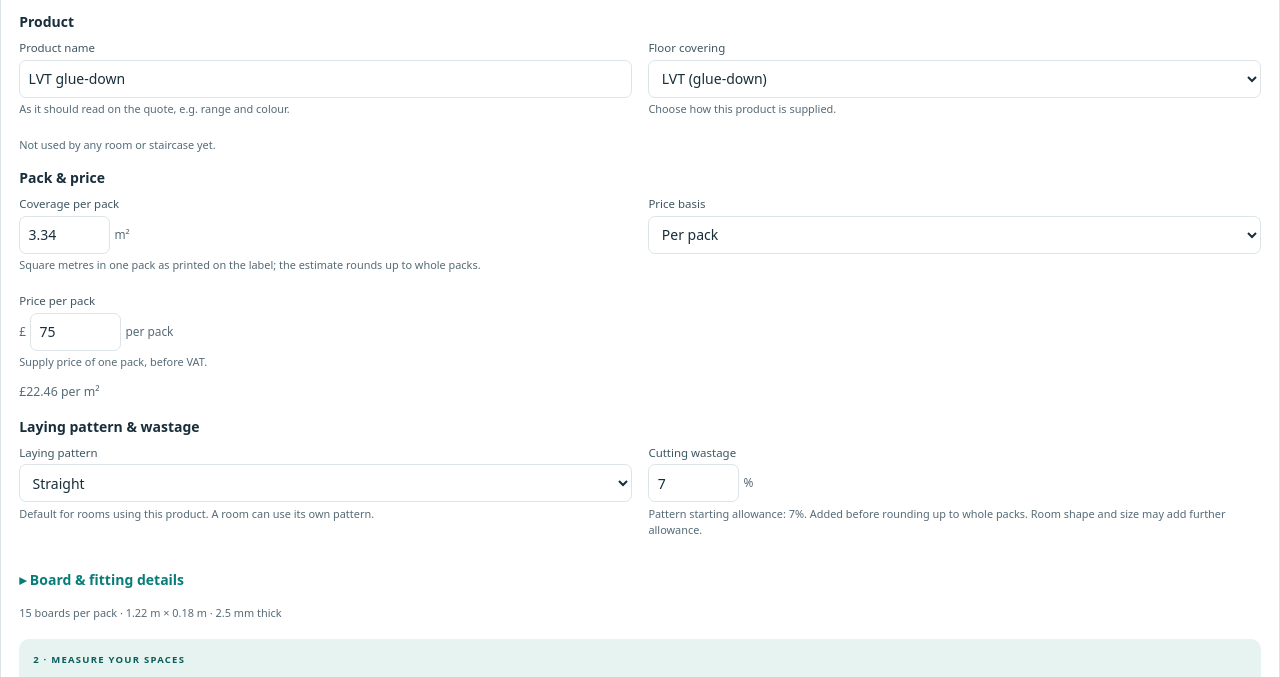
Test: MaterialsPanel › pack price edits keep price per m² in step
This screenshot has width=1280, height=677.
(page scrolled)
Replace the text in the number field labelled "Price per pack" with "100" at (76, 332), box [30, 313, 121, 351]
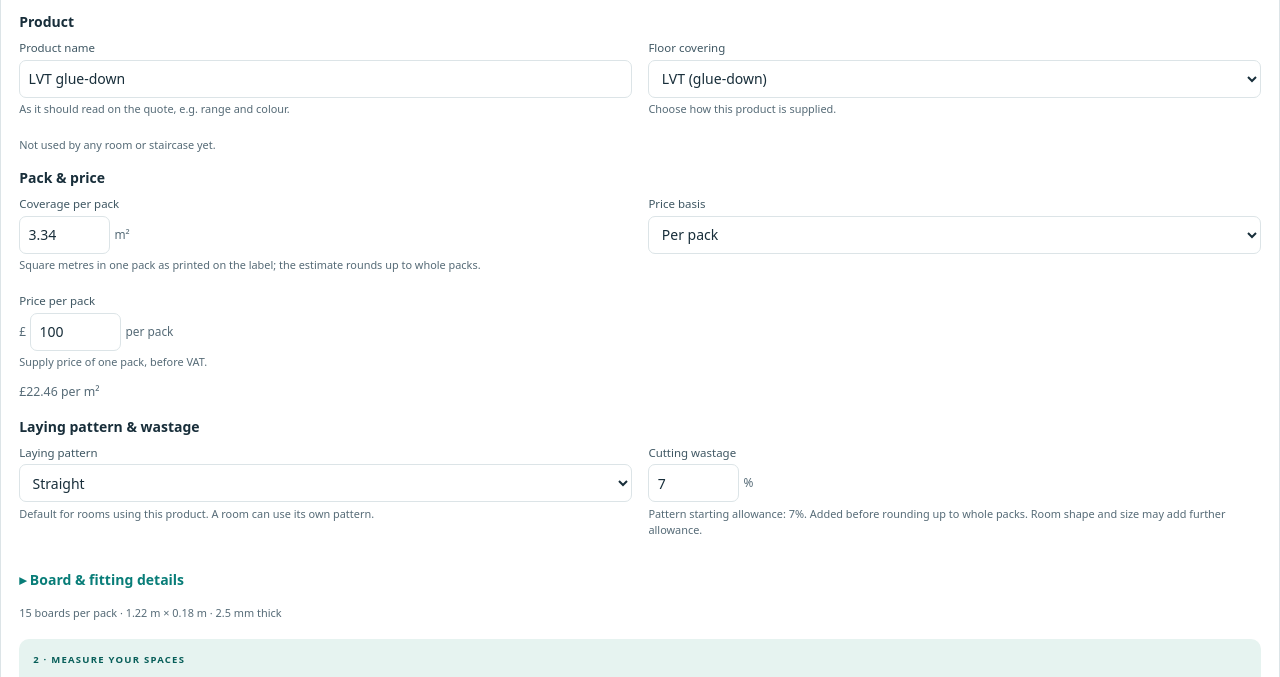
Leave the number field labelled "Price per pack", box [30, 313, 121, 351]
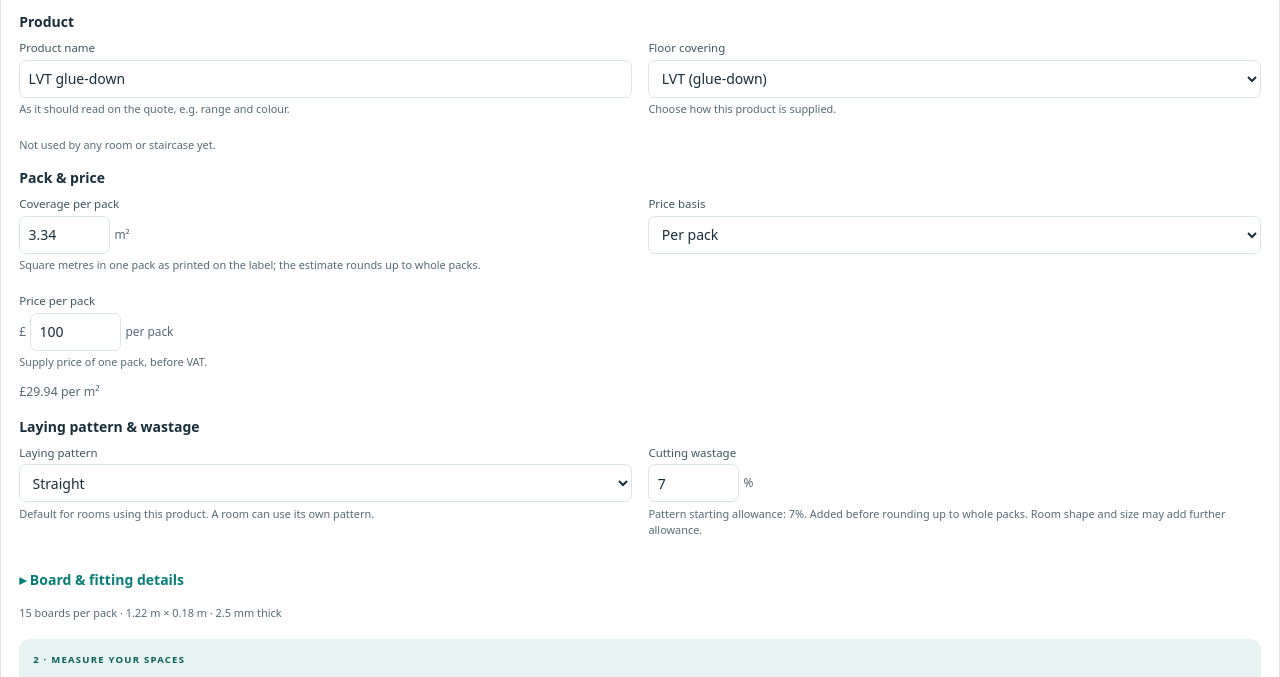
Now the text with test id "price-per-m2" reads "£29.94 per m²", box [19, 383, 100, 400]
